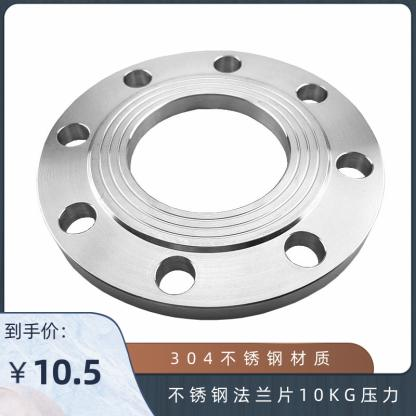FOD: (35, 42, 388, 325)
